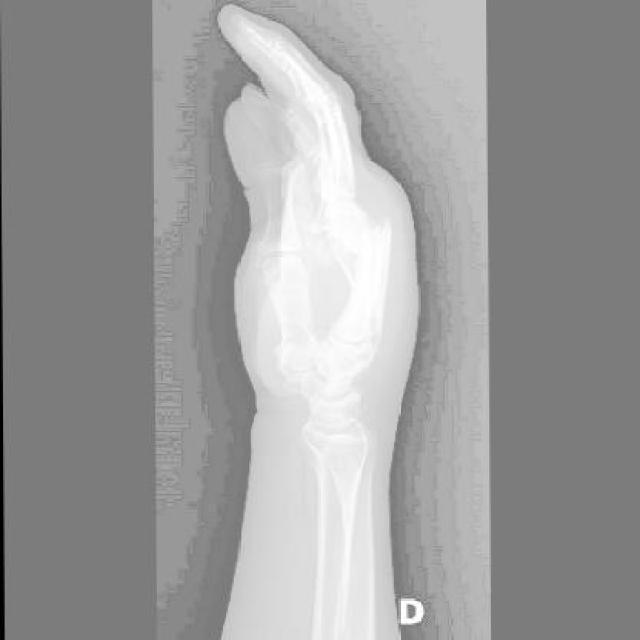Fracture: (354, 211, 394, 250), (348, 215, 385, 257)
